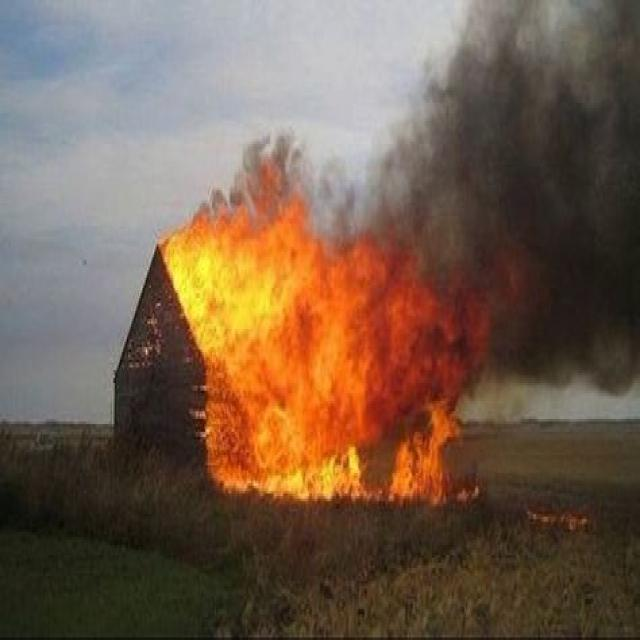Fire: (150, 222, 480, 510), (410, 35, 640, 392)
